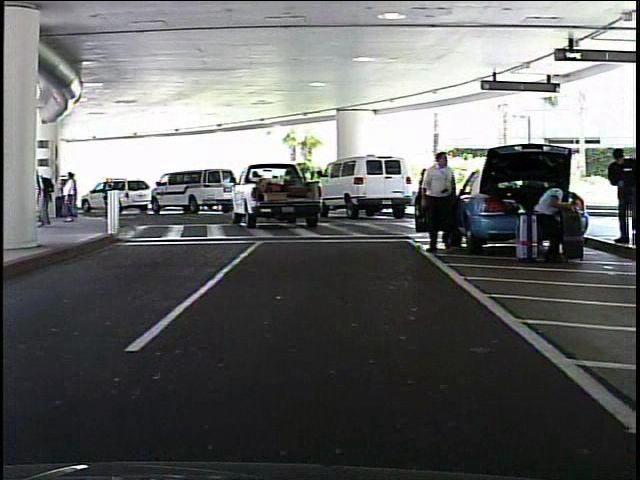person: (418, 148, 464, 253), (529, 173, 574, 261), (604, 143, 640, 248)
